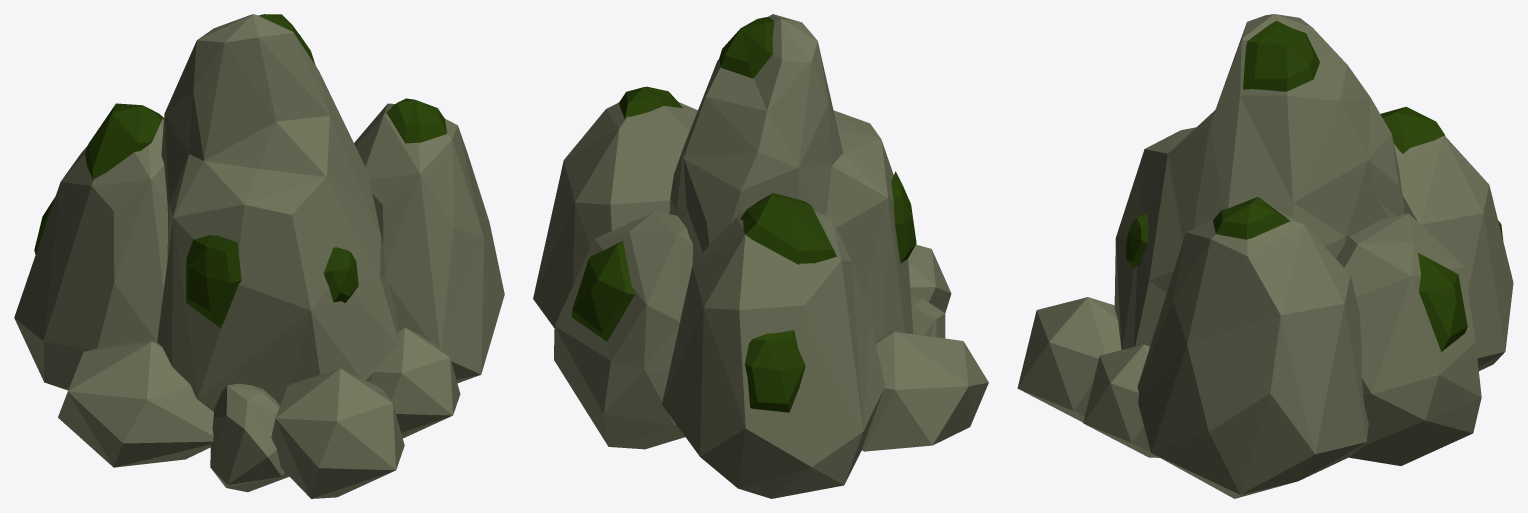
The model's file is NIO_jungleStone.fbx.
3 renders of one model, left to right at view 1: azimuth 30°, elevation 25°; view 2: azimuth 150°, elevation 25°; view 3: azimuth 270°, elevation 25°, orthographic.
Parts seen in each view (by area): view 1: NIO_jungleStone, NIO_Stone.001; view 2: NIO_jungleStone, NIO_Stone.001; view 3: NIO_jungleStone, NIO_Stone.001.
Boxes of the visible parts, box(x1,y1,x2,y2) form: NIO_jungleStone: box(14, 14, 504, 498); NIO_Stone.001: box(34, 14, 446, 327); NIO_jungleStone: box(533, 14, 988, 498); NIO_Stone.001: box(572, 17, 916, 412); NIO_jungleStone: box(1017, 14, 1513, 498); NIO_Stone.001: box(1125, 20, 1503, 351).
Bounding box in the file's own units: 264 × 251 × 267.
